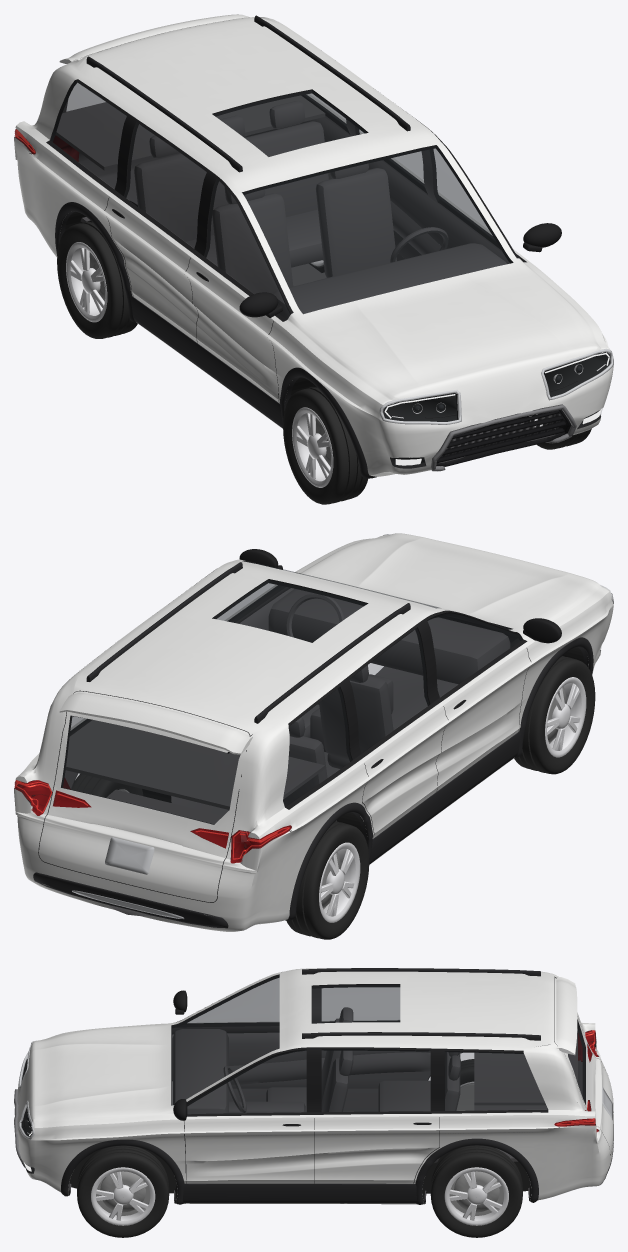
Rendered from suv.glb.
3 views of the same model, one above another, from view 1: azimuth 30°, elevation 25°; view 2: azimuth 150°, elevation 25°; view 3: azimuth 270°, elevation 25° (orthographic). The views are drawn at different scales.
Visible parts, largest first — view 1: body, interior, glass_windshield, window_trim, body_cladding, glass_rear_right, glass_sunroof, glass_quarter_right, grille, tire_front_right, glass_front_right, tire_rear_right (+9 smaller); view 2: body, interior, glass_back, body_cladding, glass_rear_right, window_trim, glass_sunroof, glass_quarter_right, roof_spoiler, glass_front_right, tire_rear_right, tire_front_right (+15 smaller); view 3: body, interior, glass_windshield, body_cladding, glass_rear_left, window_trim, glass_quarter_left, glass_front_left, tire_rear_left, tire_front_left, glass_sunroof, rim_rear_left (+9 smaller).
Boxes of the visible parts, x1=… form: body: x1=14, y1=17, x2=613, y2=476; interior: x1=55, y1=95, x2=506, y2=319; glass_windshield: x1=243, y1=145, x2=512, y2=313; window_trim: x1=46, y1=79, x2=526, y2=321; body_cladding: x1=55, y1=202, x2=376, y2=478; glass_rear_right: x1=125, y1=123, x2=206, y2=247; glass_sunroof: x1=213, y1=90, x2=366, y2=156; glass_quarter_right: x1=51, y1=81, x2=126, y2=188; grille: x1=430, y1=404, x2=576, y2=471; tire_front_right: x1=283, y1=386, x2=367, y2=504; glass_front_right: x1=205, y1=180, x2=290, y2=319; tire_rear_right: x1=57, y1=220, x2=137, y2=338; body: x1=14, y1=533, x2=613, y2=931; interior: x1=38, y1=588, x2=510, y2=841; glass_back: x1=61, y1=716, x2=239, y2=824; body_cladding: x1=71, y1=637, x2=593, y2=920; glass_rear_right: x1=349, y1=628, x2=429, y2=752; window_trim: x1=69, y1=569, x2=527, y2=809; glass_sunroof: x1=213, y1=580, x2=366, y2=642; glass_quarter_right: x1=283, y1=687, x2=351, y2=806; roof_spoiler: x1=59, y1=692, x2=252, y2=754; glass_front_right: x1=427, y1=613, x2=522, y2=696; tire_rear_right: x1=286, y1=821, x2=369, y2=939; tire_front_right: x1=514, y1=656, x2=595, y2=774; body: x1=17, y1=968, x2=613, y2=1204; interior: x1=172, y1=1007, x2=577, y2=1163; glass_windshield: x1=171, y1=975, x2=279, y2=1105; body_cladding: x1=61, y1=1052, x2=538, y2=1204; glass_rear_left: x1=322, y1=1050, x2=430, y2=1111; window_trim: x1=176, y1=988, x2=548, y2=1116; glass_quarter_left: x1=445, y1=1051, x2=547, y2=1110; glass_front_left: x1=187, y1=1050, x2=306, y2=1113; tire_rear_left: x1=430, y1=1145, x2=522, y2=1237; tire_front_left: x1=77, y1=1145, x2=169, y2=1237; glass_sunroof: x1=312, y1=985, x2=399, y2=1023; rim_rear_left: x1=444, y1=1167, x2=508, y2=1225.
Size of the model in its own units: 2.35 by 1.7 by 4.87.
